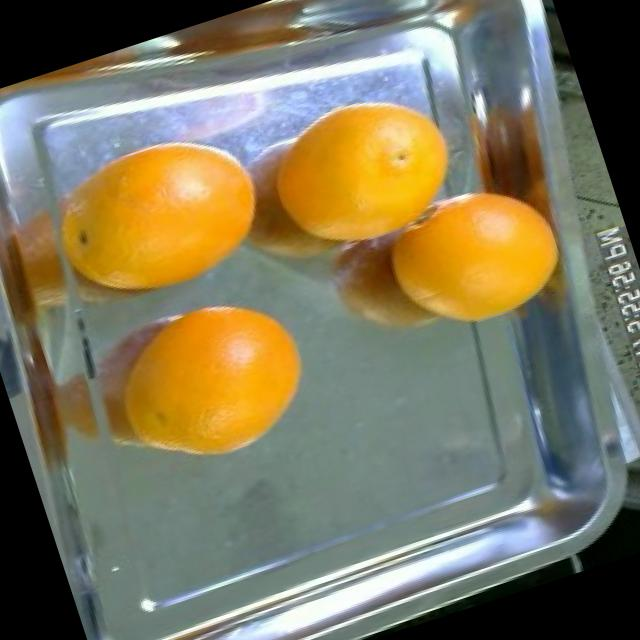Fruit: (238, 49, 498, 282), (88, 258, 339, 491), (351, 152, 594, 366)
